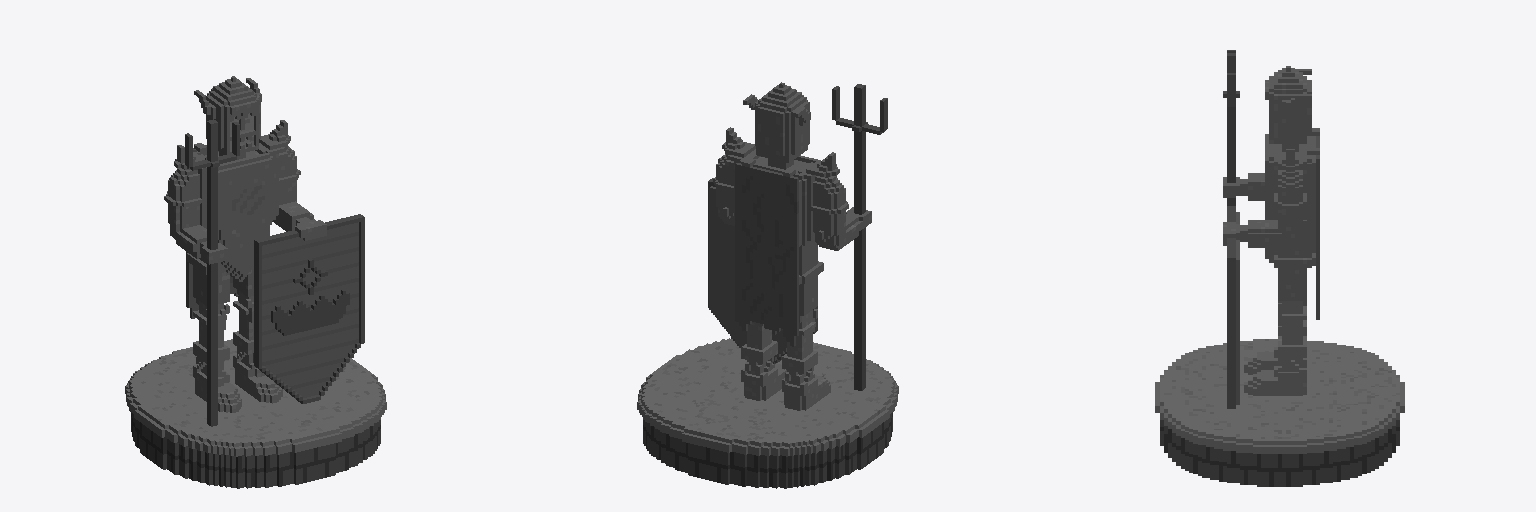
3 renders of one model, left to right at view 1: azimuth 30°, elevation 25°; view 2: azimuth 150°, elevation 25°; view 3: azimuth 270°, elevation 25°, orthographic.
Visible parts, largest first — view 1: object 1; view 2: object 1; view 3: object 1.
Boxes of the visible parts, x1=… form: object 1: x1=125, y1=76, x2=386, y2=488; object 1: x1=637, y1=82, x2=898, y2=488; object 1: x1=1155, y1=50, x2=1404, y2=486.
Bounding box in the file's own units: 5.9 × 9.4 × 5.9.
Materials: 1 (1 with a texture image).